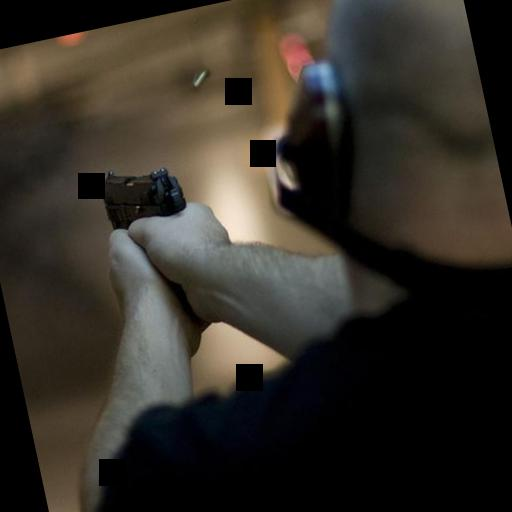Handgun: (92, 154, 206, 336)
